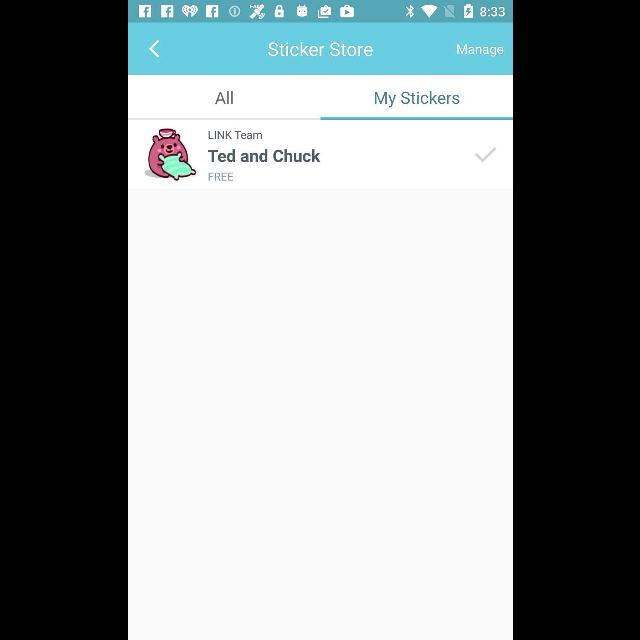icon: (474, 146, 496, 164), (148, 40, 160, 58)
image: (144, 128, 196, 182)
multitab: (128, 76, 512, 120)
text: (206, 149, 320, 163), (374, 90, 458, 108), (268, 42, 372, 56), (456, 44, 504, 58), (207, 130, 261, 140), (207, 172, 233, 182), (214, 92, 232, 105)
toolbar: (128, 23, 512, 75)
uppertaskbar: (128, 1, 512, 23)
